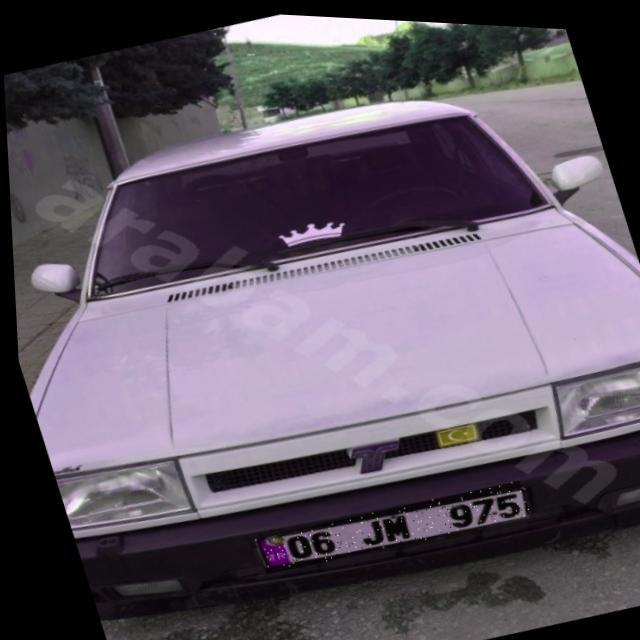license_plate: (245, 463, 528, 583)
